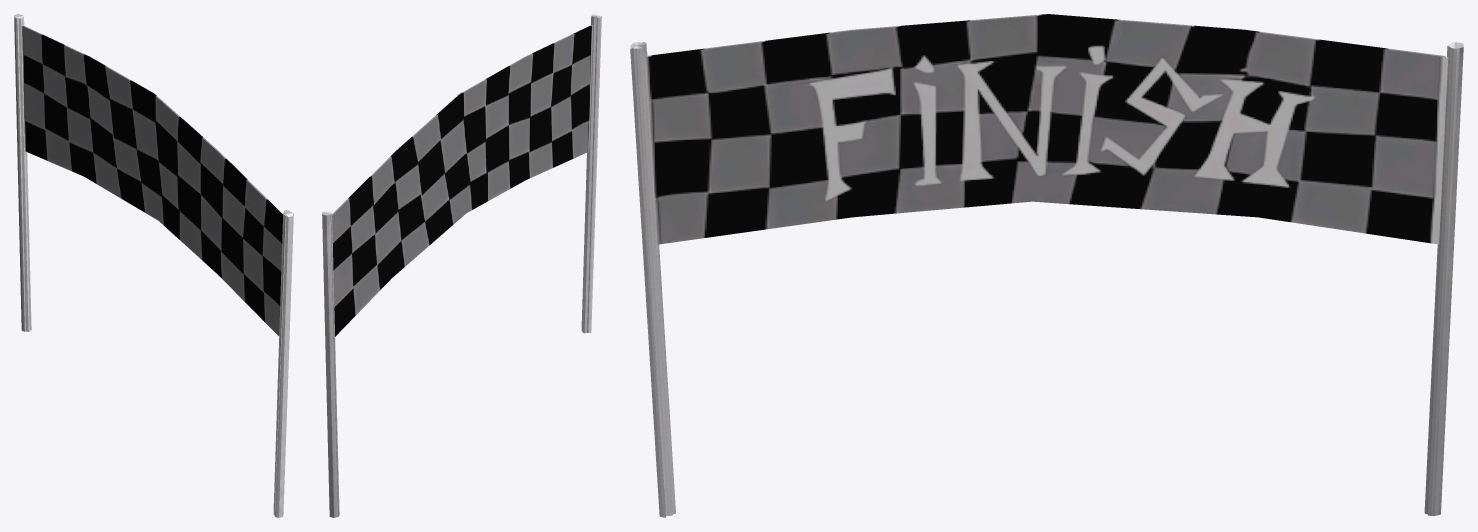
The model's file is Sign.glb.
3 renders of one model, left to right at view 1: azimuth 30°, elevation 25°; view 2: azimuth 150°, elevation 25°; view 3: azimuth 270°, elevation 25°, orthographic. The views are drawn at different scales.
Visible parts, largest first — view 1: Sign; view 2: Sign; view 3: Sign.
Part boxes in pixels (<box>): Sign: <box>14,14,293,517</box>; Sign: <box>322,14,601,517</box>; Sign: <box>630,14,1463,517</box>.
Bounding box in the file's own units: 9.43 × 339 × 511.
1 material, 1 textured.
